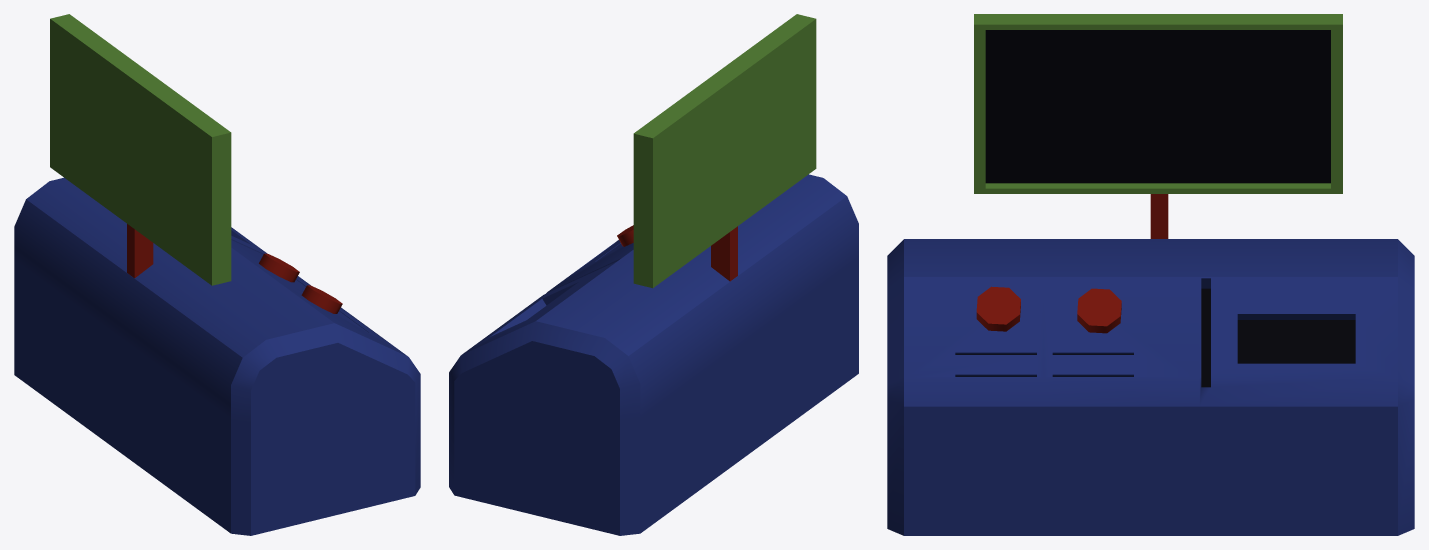
The model's file is panel.fbx.
3 renders of one model, left to right at view 1: azimuth 30°, elevation 25°; view 2: azimuth 150°, elevation 25°; view 3: azimuth 270°, elevation 25°, orthographic. The views are drawn at different scales.
Parts seen in each view (by area): view 1: pCube8; view 2: pCube8; view 3: pCube8.
Part boxes in pixels (left/top/right/bottom): pCube8: left=14, top=14, right=420, bottom=535; pCube8: left=449, top=14, right=858, bottom=535; pCube8: left=887, top=14, right=1414, bottom=535.
Bounding box in the file's own units: 35 × 65.5 × 73.98.
